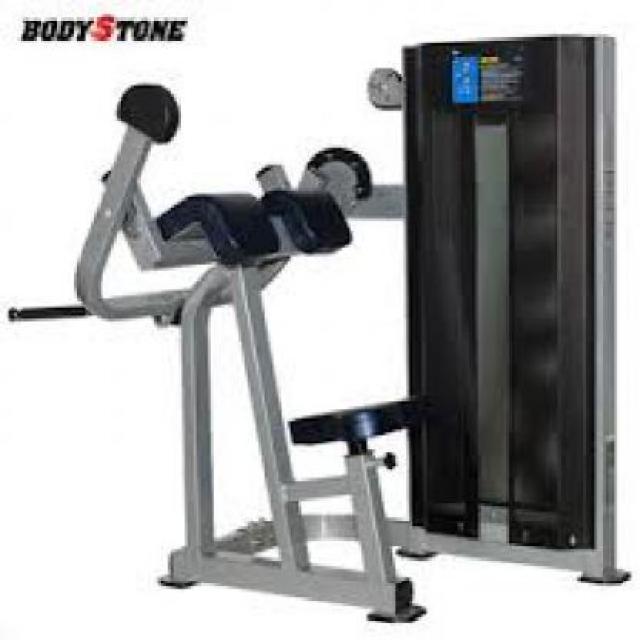arm curl machine: (8, 85, 629, 623)
